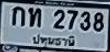letters: (10, 6, 27, 27), (28, 6, 43, 29), (52, 8, 66, 31), (67, 9, 79, 31), (80, 10, 92, 32), (93, 11, 105, 33)
province: (32, 32, 76, 48)
